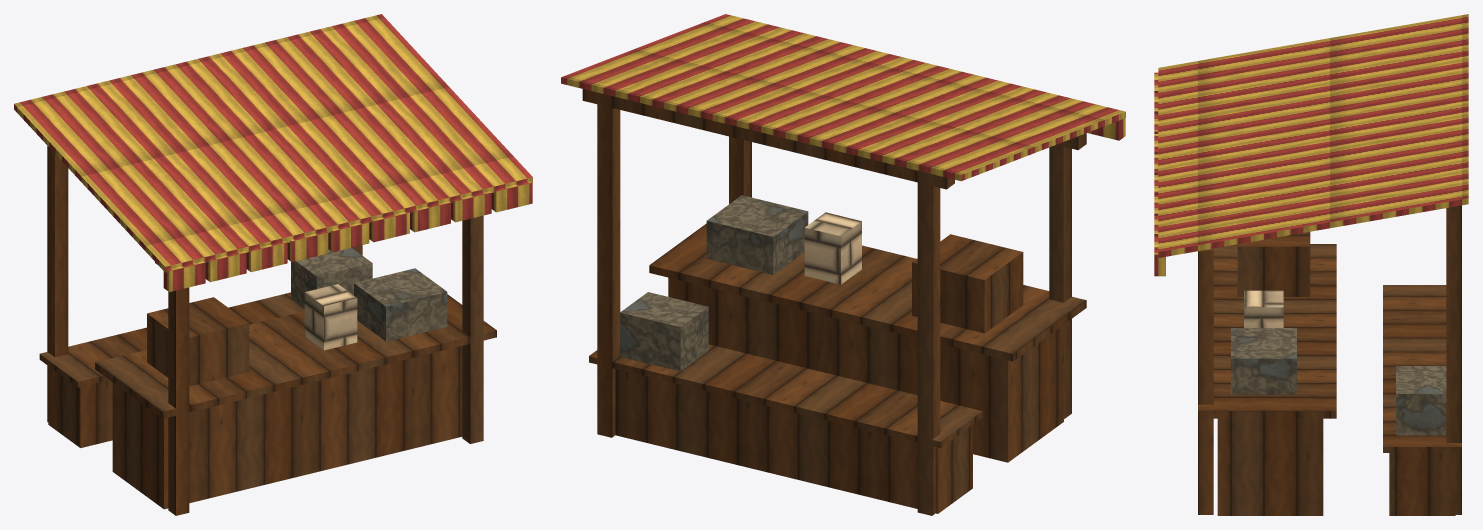
The model's file is market_stall.glb.
The picture shows the model from 3 angles, left to right: view 1: azimuth 30°, elevation 25°; view 2: azimuth 150°, elevation 25°; view 3: azimuth 270°, elevation 25°; orthographic projection. The views are drawn at different scales.
Visible parts, largest first — view 1: market_stall; view 2: market_stall; view 3: market_stall.
Part boxes in pixels (x1=…): market_stall: x1=14, y1=14, x2=532, y2=515; market_stall: x1=561, y1=14, x2=1125, y2=515; market_stall: x1=1154, y1=14, x2=1468, y2=515.
Bounding box in the file's own units: 3.3 × 2.77 × 2.38.
4 materials, 4 textured.
